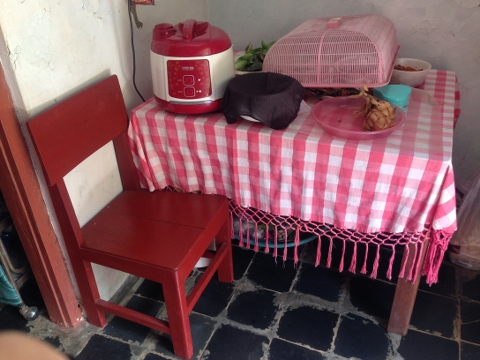kursi: (27, 75, 234, 358)
meja: (131, 66, 456, 336)
